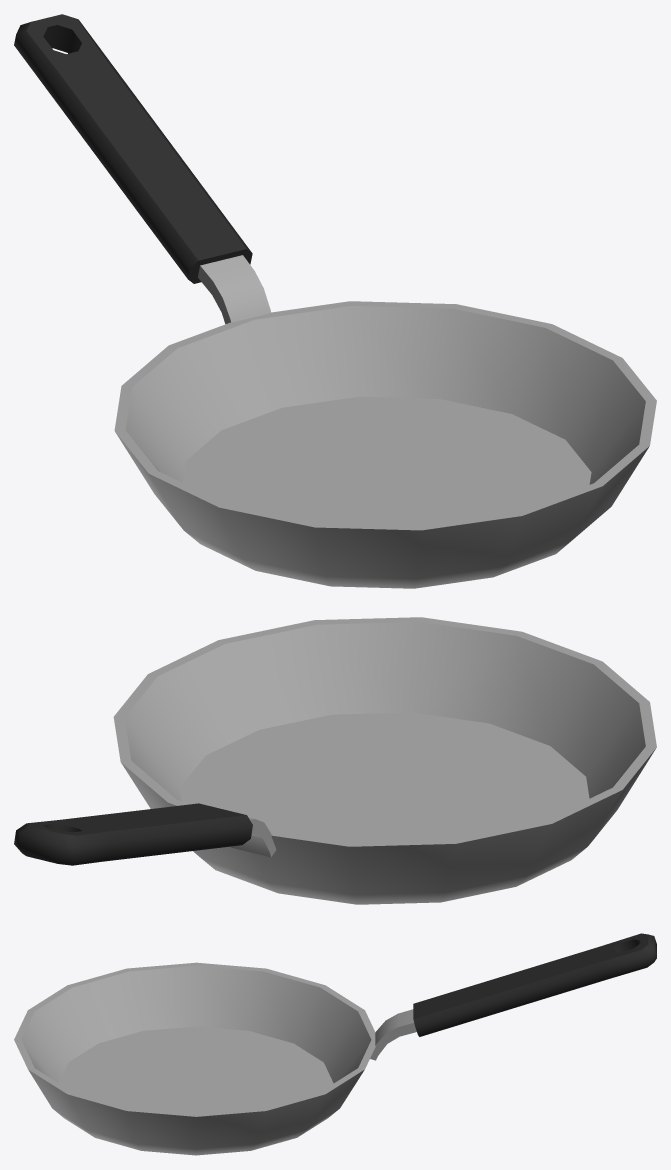
Rendered from FrenchSkillet_01.fbx.
3 views of the same model, one above another, from view 1: azimuth 30°, elevation 25°; view 2: azimuth 150°, elevation 25°; view 3: azimuth 270°, elevation 25° (orthographic). The views are drawn at different scales.
Parts seen in each view (by area): view 1: FrenchSkillet_01; view 2: FrenchSkillet_01; view 3: FrenchSkillet_01.
Part boxes in pixels (x1,y1,x2,y2): FrenchSkillet_01: (14,14,656,588); FrenchSkillet_01: (14,617,656,904); FrenchSkillet_01: (14,933,656,1155).
Bounding box in the file's own units: 0.3494 × 0.1641 × 0.6155.
